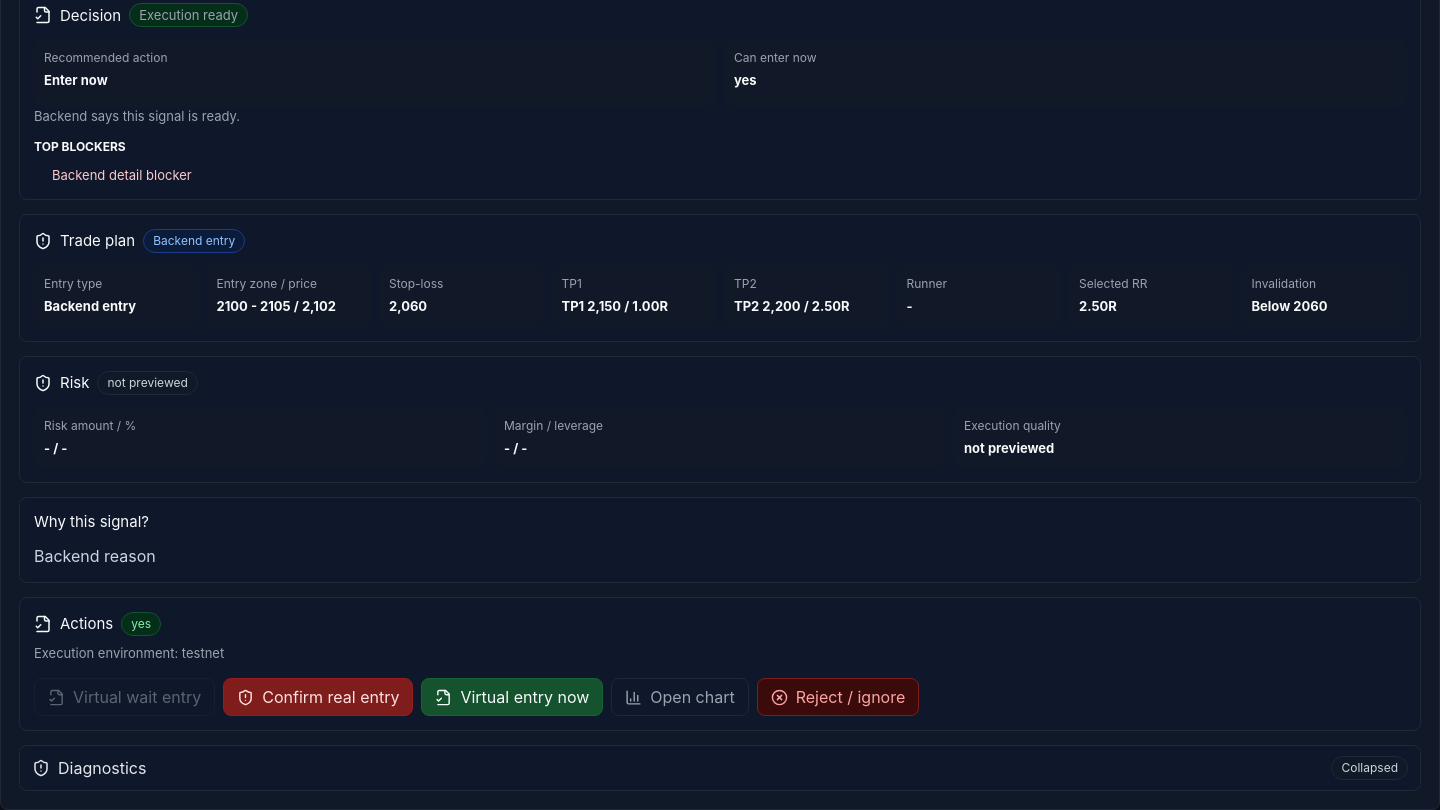
Test: SignalDetails › shows the dedicated real execution preview in the real confirmation modal
(page scrolled)
Click the button "Confirm real entry".
click(318, 697)  # box [223, 678, 413, 716]
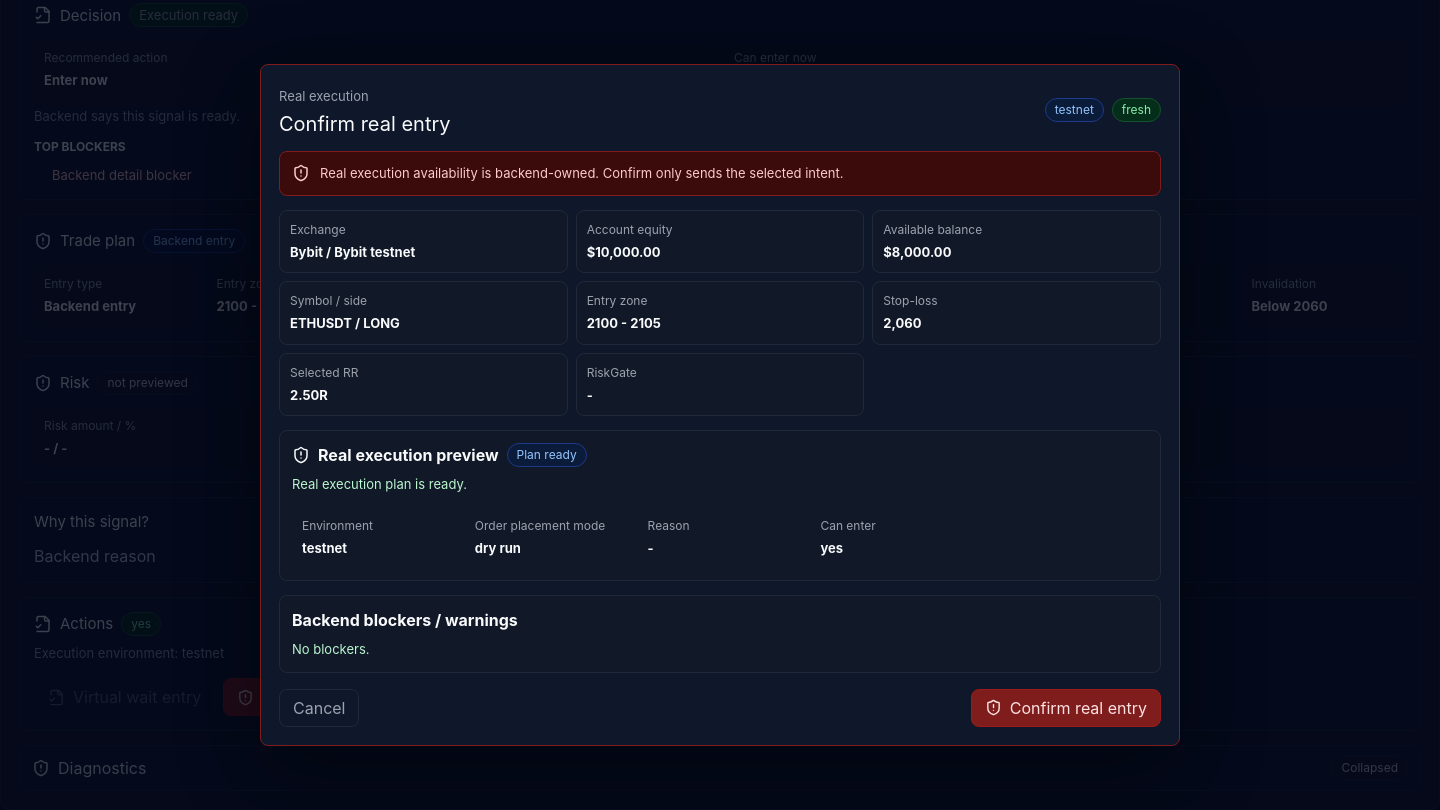
Expected: the text "Real execution preview" is shown, [318, 443, 498, 467]
Expected: the text "Plan ready" is shown, [506, 443, 587, 467]
Expected: the text "Real execution plan is ready." is shown, [292, 476, 467, 492]
